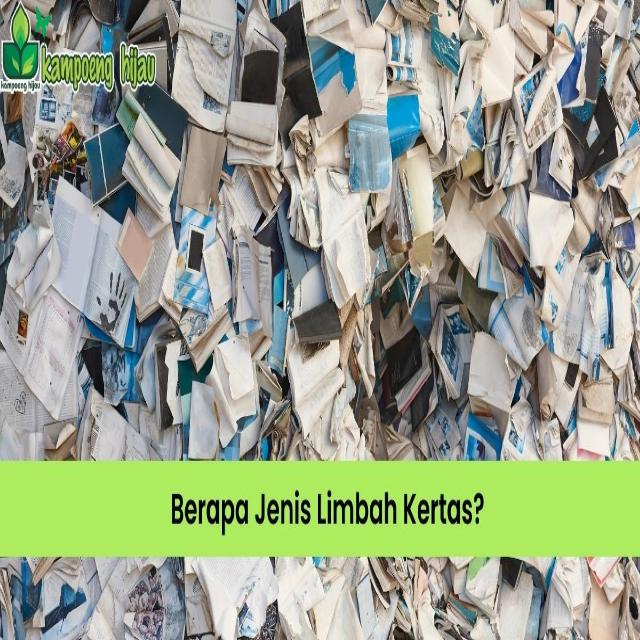Kertas: (48, 170, 138, 341), (126, 102, 190, 328), (220, 28, 302, 186), (318, 34, 396, 186), (288, 306, 349, 437), (459, 58, 512, 207), (209, 219, 280, 320), (289, 200, 344, 324), (206, 338, 262, 457), (525, 156, 579, 275), (566, 351, 625, 458), (102, 378, 169, 466), (579, 24, 640, 120), (487, 268, 542, 370), (519, 16, 565, 134), (346, 208, 394, 310), (206, 564, 279, 628), (431, 301, 483, 390), (403, 127, 436, 257), (9, 361, 59, 444)
